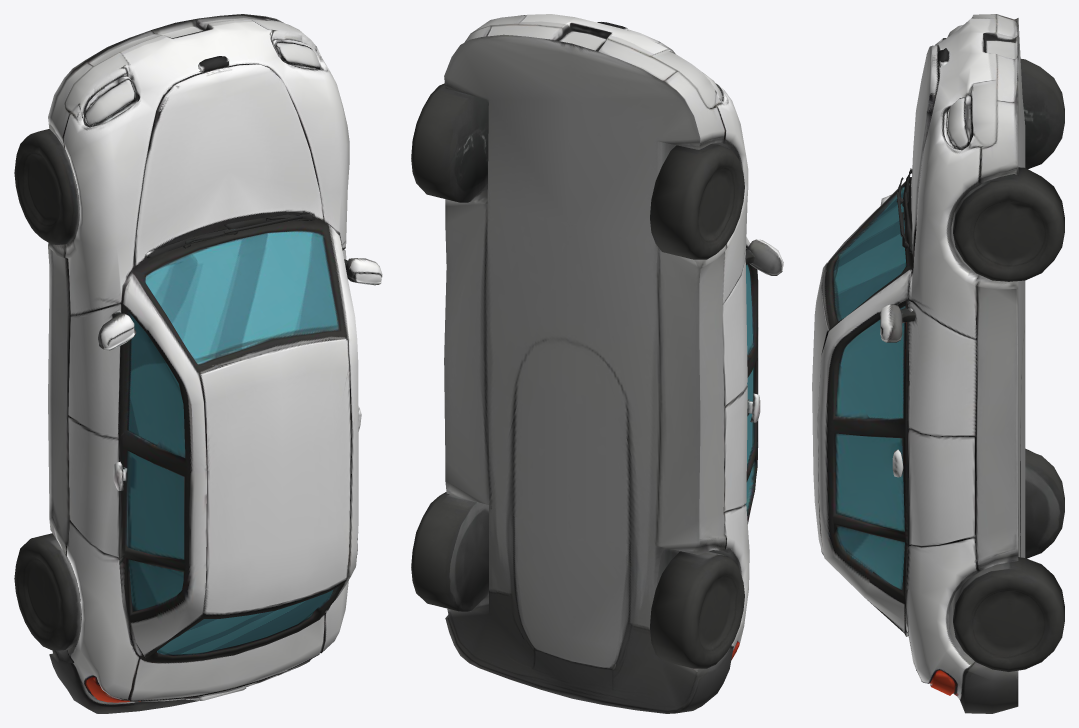
File: selected.fbx
3 views of the same model, side by side, from view 1: azimuth 30°, elevation 25°; view 2: azimuth 150°, elevation 25°; view 3: azimuth 270°, elevation 25° (orthographic). The views are drawn at different scales.
Parts seen in each view (by area): view 1: tripo_node_c9fdec99-0fd7-4b93-b5ce-8d3cb63a52a0; view 2: tripo_node_c9fdec99-0fd7-4b93-b5ce-8d3cb63a52a0; view 3: tripo_node_c9fdec99-0fd7-4b93-b5ce-8d3cb63a52a0.
Part boxes in pixels (<box>): tripo_node_c9fdec99-0fd7-4b93-b5ce-8d3cb63a52a0: <box>14,14,382,713</box>; tripo_node_c9fdec99-0fd7-4b93-b5ce-8d3cb63a52a0: <box>411,14,783,713</box>; tripo_node_c9fdec99-0fd7-4b93-b5ce-8d3cb63a52a0: <box>812,14,1064,713</box>.
Size of the model in its own units: 44.34 by 99.8 by 36.13.
Materials: 1 (1 with a texture image).
